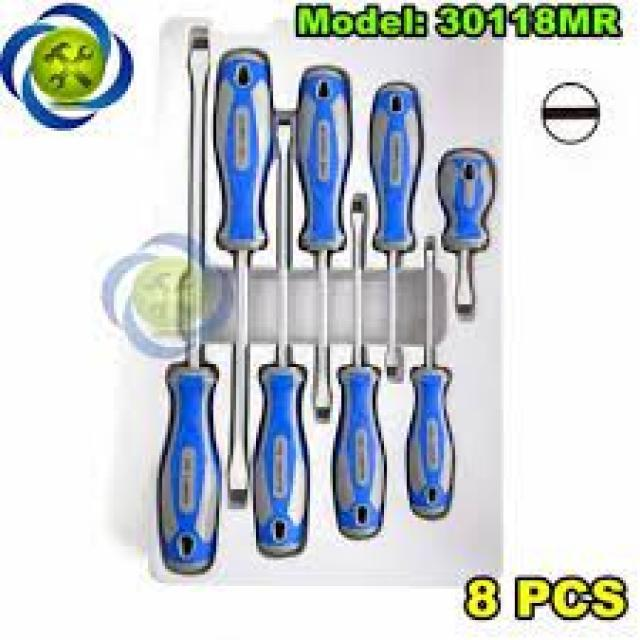screwdriver: (152, 20, 223, 578), (209, 46, 280, 520), (247, 115, 316, 559), (292, 66, 357, 430), (327, 196, 390, 544), (364, 78, 427, 380), (401, 234, 458, 524), (432, 144, 500, 318)
